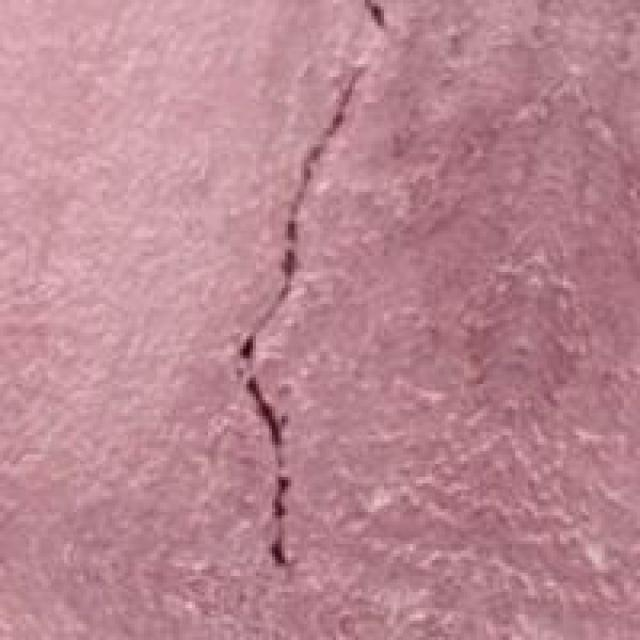SurfaceCrack: (218, 0, 418, 592)
